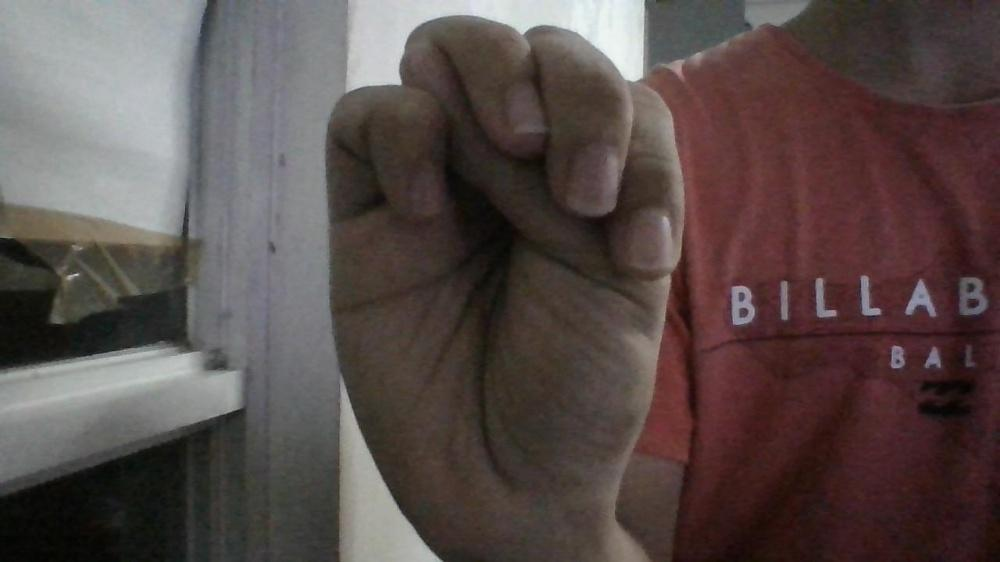m: (323, 13, 688, 552)
